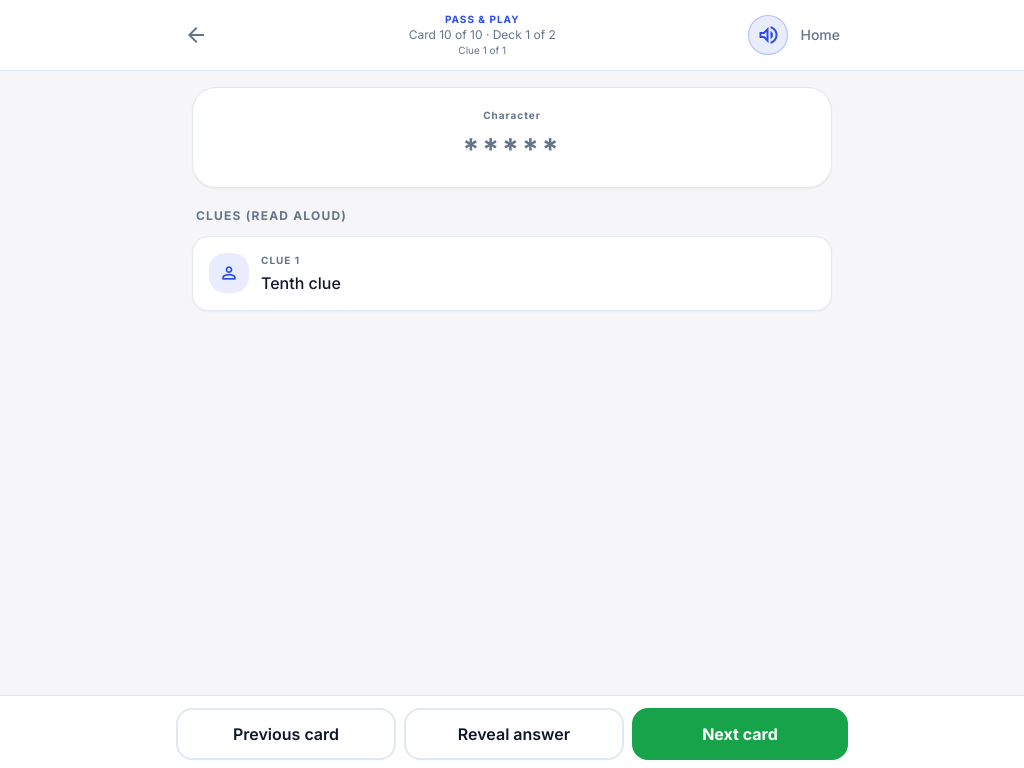
Test: PlayCards › shows deck complete with next deck when more characters remain
The image size is (1024, 768).
Expected: the text "Tenth clue" is shown, left=261, top=273, right=341, bottom=293
Click the button "Next card". click: [740, 734]
box: left=632, top=708, right=848, bottom=760
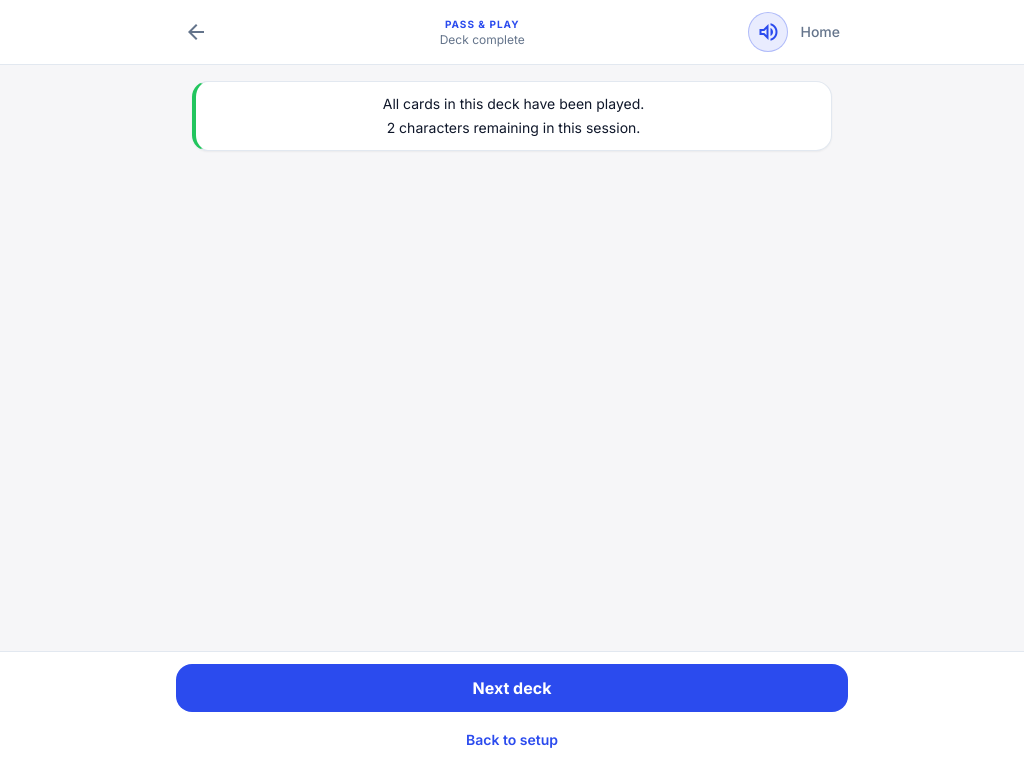
Expected: the text "All cards in this deck" is shown, left=383, top=95, right=644, bottom=112
Expected: the text "2 characters remaining in this session." is shown, left=387, top=119, right=640, bottom=136
Expected: the button "Next deck" is shown, left=176, top=664, right=848, bottom=712
